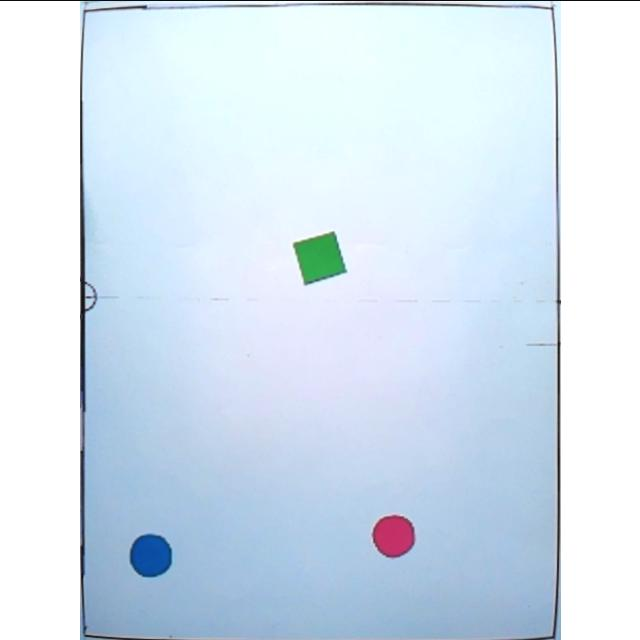blueCircle: (130, 532, 172, 576)
greenSquare: (292, 228, 344, 286)
pinkCircle: (370, 512, 414, 558)
